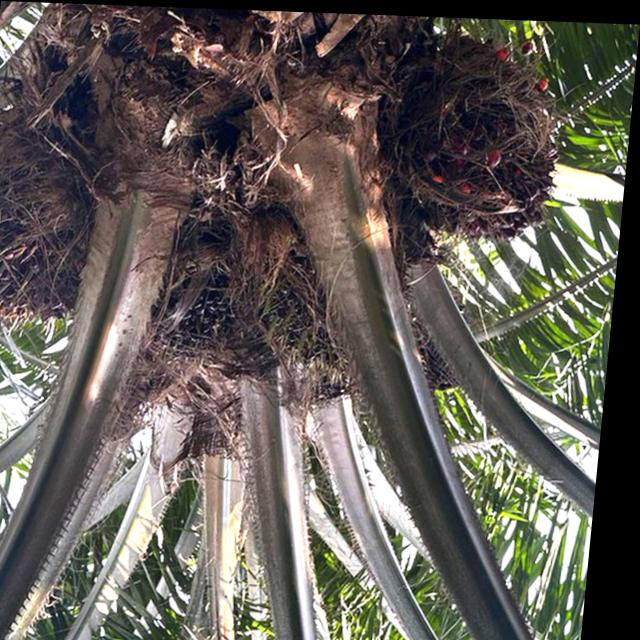unripe: (359, 18, 583, 257), (204, 188, 370, 354), (0, 98, 111, 337), (122, 190, 276, 360)
